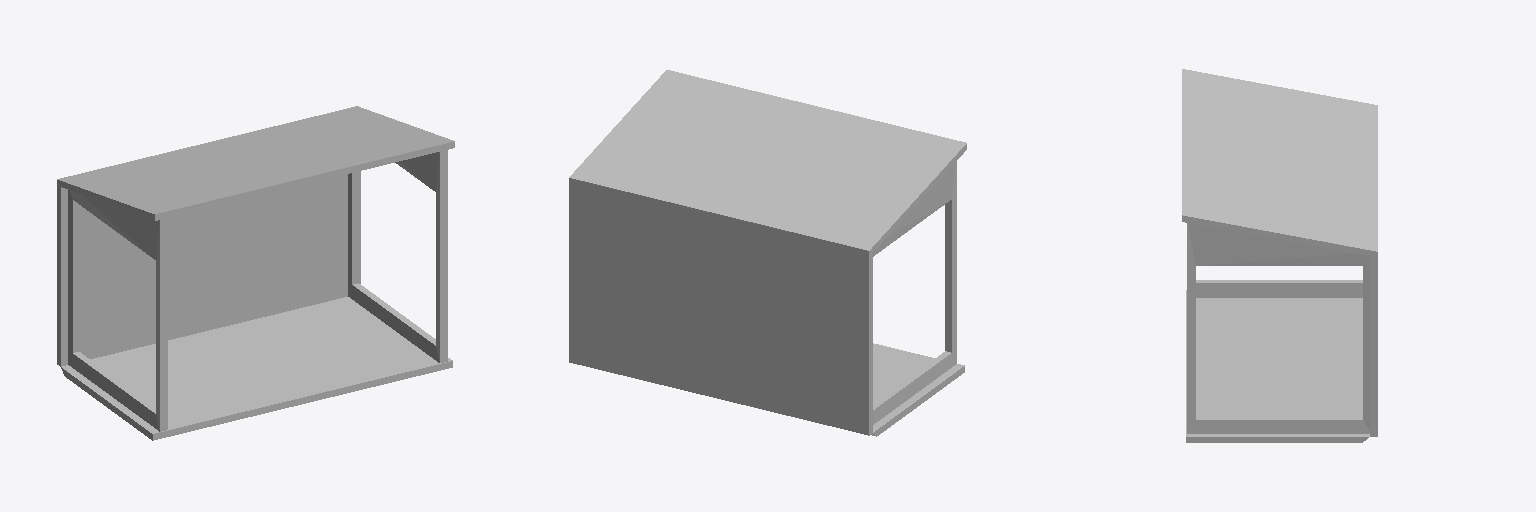
File: bus_stop.obj
The picture shows the model from 3 angles: view 1: azimuth 30°, elevation 25°; view 2: azimuth 150°, elevation 25°; view 3: azimuth 270°, elevation 25°; orthographic projection.
Parts seen in each view (by area): view 1: Cube; view 2: Cube; view 3: Cube.
Part boxes in pixels (x1,y1,x2,y2): Cube: (57, 106, 454, 440); Cube: (569, 70, 966, 436); Cube: (1182, 69, 1377, 442).
Bounding box in the file's own units: 11.24 × 8.15 × 6.34.